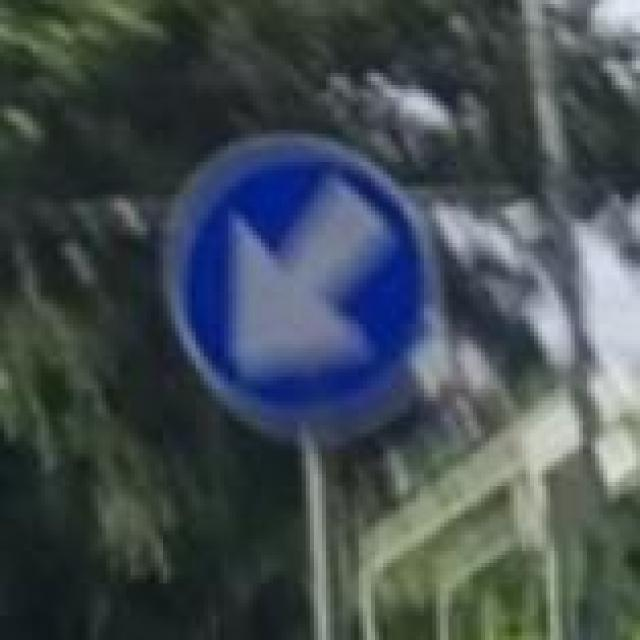traffic sign: (187, 150, 420, 418)
